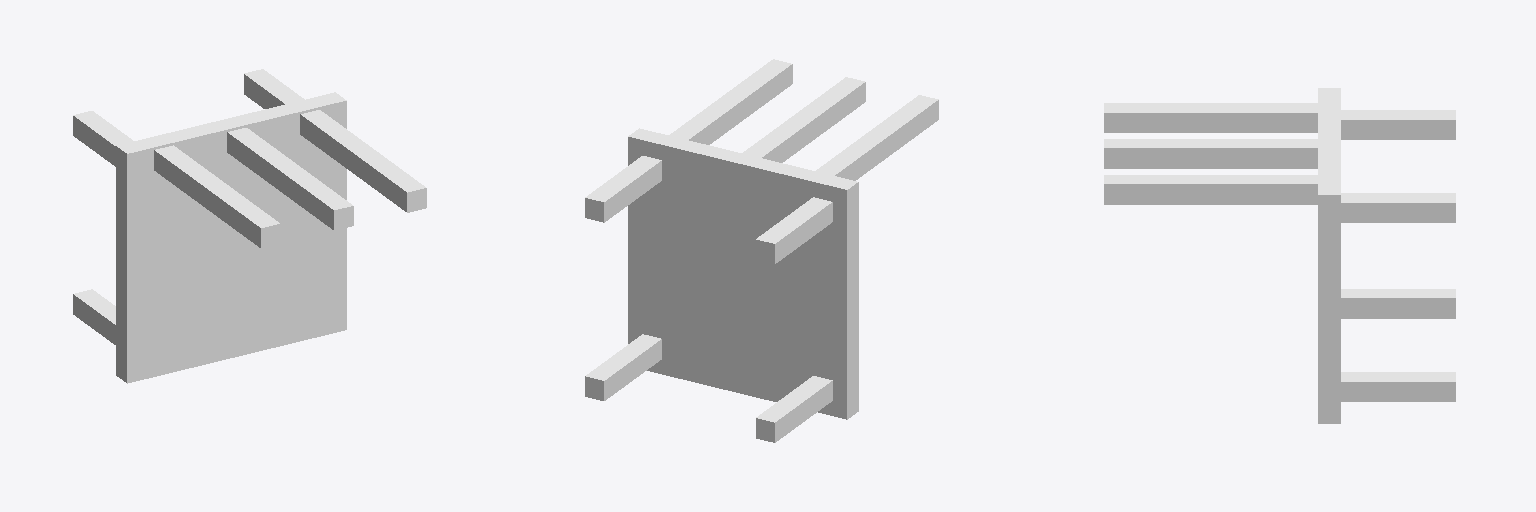
Rendered from asset_9649dddb-681f-464f-bbdc-46b99d862468.obj.
3 views of the same model, side by side, from view 1: azimuth 30°, elevation 25°; view 2: azimuth 150°, elevation 25°; view 3: azimuth 270°, elevation 25° (orthographic).
Size of the model in its own units: 0.9 by 0.9 by 1.25.